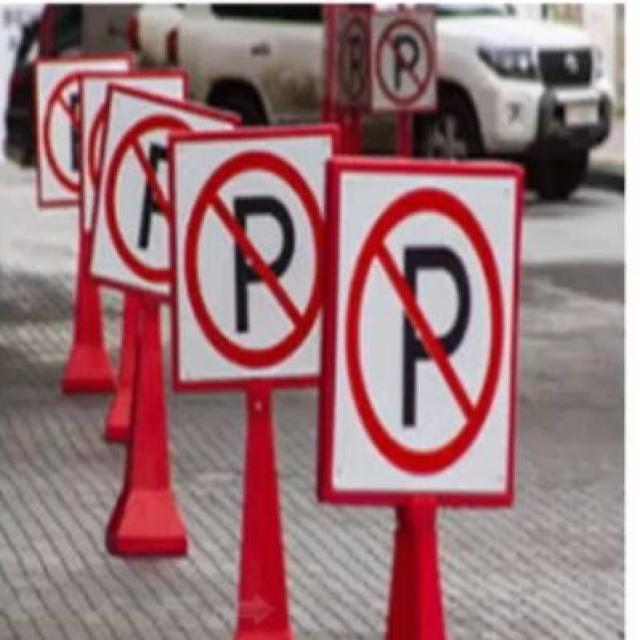No_parking: (336, 160, 516, 506), (184, 148, 327, 368), (106, 106, 204, 274)
